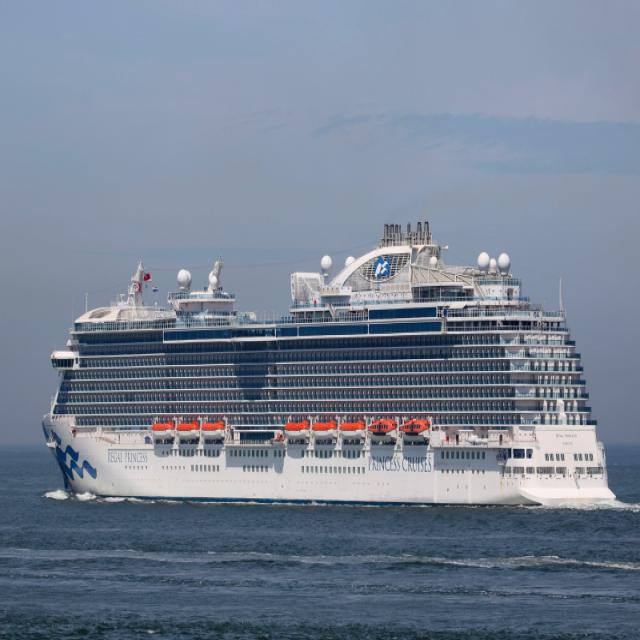cruises: (37, 219, 620, 519)
